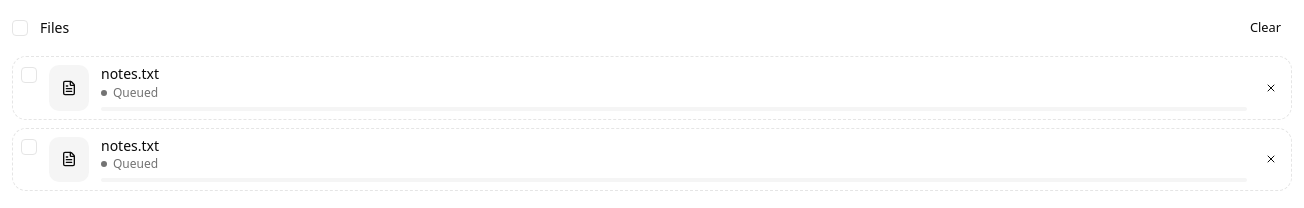
Scenario: selecting files › swaps the heading for a toolbar once a row is picked
What coordinates should you click on to do the following:
click the 1st checkbox named "Select notes.txt"
I would click on:
 (29, 75)
Its box is 21,67 -> 37,83.
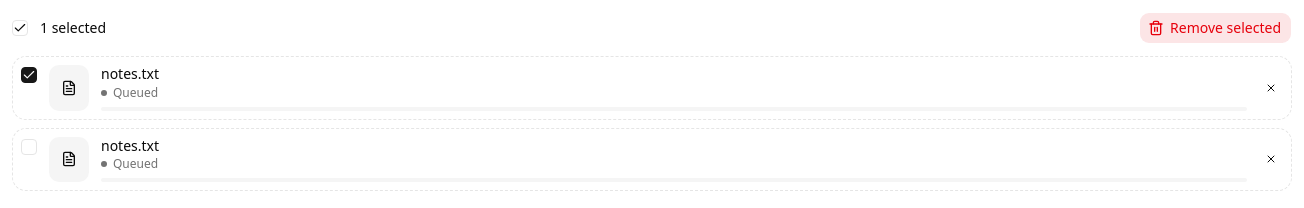
Expected: the text "1 selected" is shown, 40,18 -> 106,38
Expected: the heading "Files" is gone
